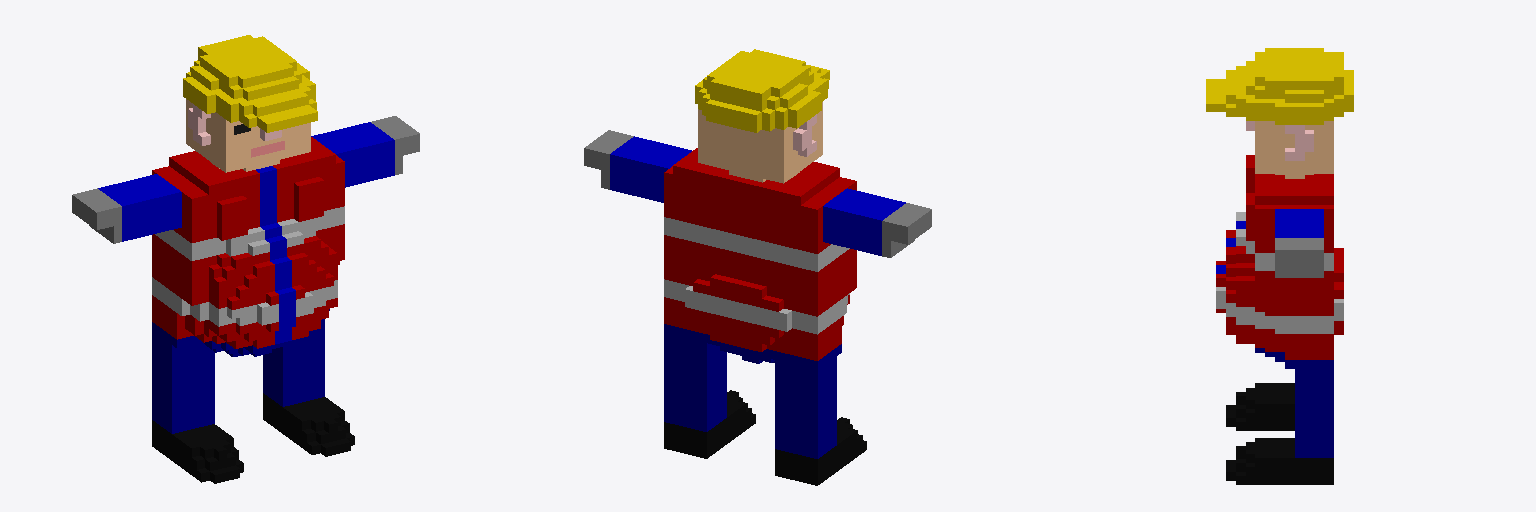
3 renders of one model, left to right at view 1: azimuth 30°, elevation 25°; view 2: azimuth 150°, elevation 25°; view 3: azimuth 270°, elevation 25°, orthographic.
Visible parts, largest first — view 1: object 1; view 2: object 1; view 3: object 1.
Part boxes in pixels (left/top/right/bottom): object 1: left=72, top=35, right=419, bottom=483; object 1: left=584, top=49, right=931, bottom=485; object 1: left=1206, top=48, right=1353, bottom=484.
Bounding box in the file's own units: 3.8 × 4.3 × 1.5.
Materials: 1 (1 with a texture image).